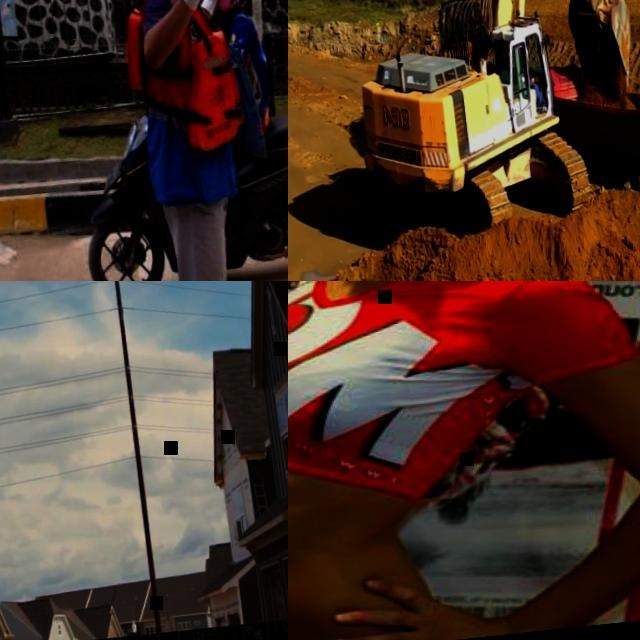NO-Safety Vest: (288, 281, 640, 618), (223, 12, 266, 103)
Person: (288, 281, 640, 640), (104, 0, 278, 281), (212, 0, 274, 125), (517, 67, 544, 109)
Safety Vest: (119, 0, 247, 151)
machinery: (325, 0, 640, 241), (543, 53, 640, 214)
